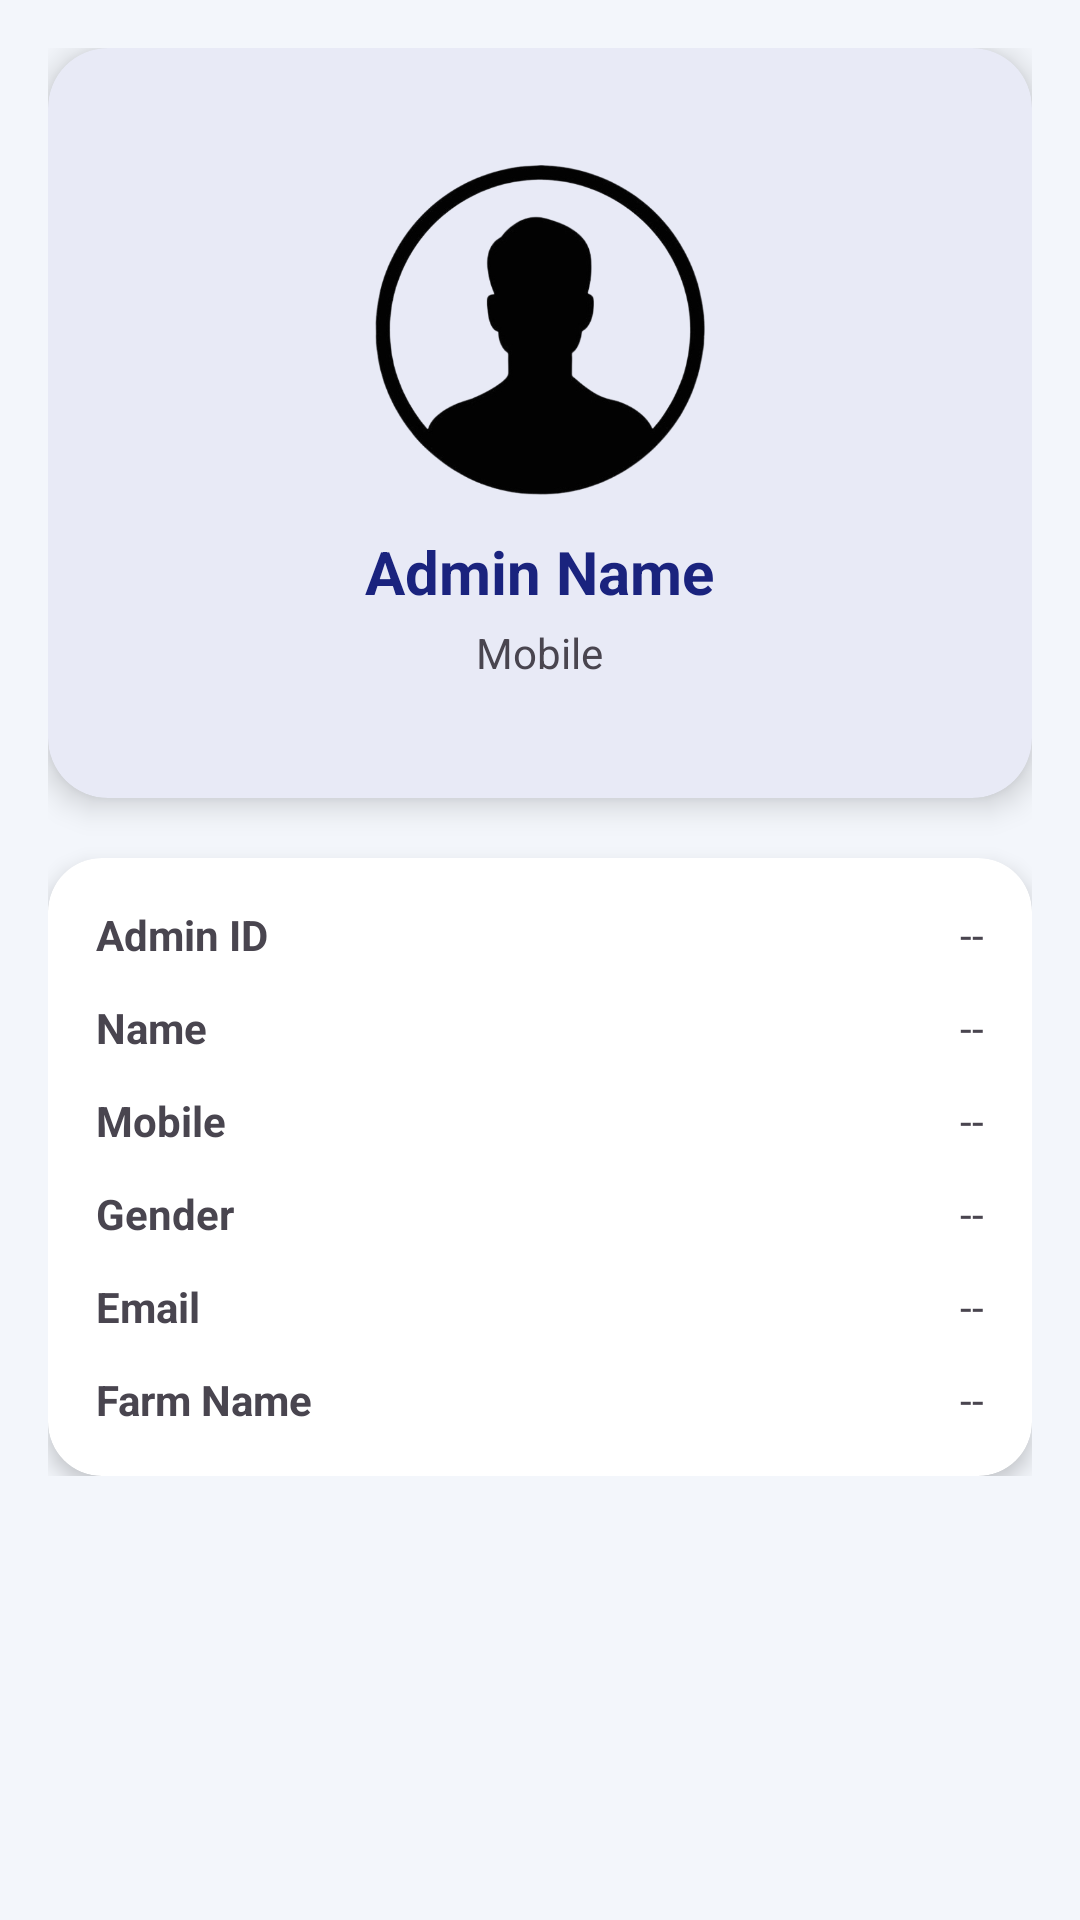

Where icons sit on this 1080×1920 app screen, as (x1, y1, x2, y2):
profile: (375, 165, 705, 495)
